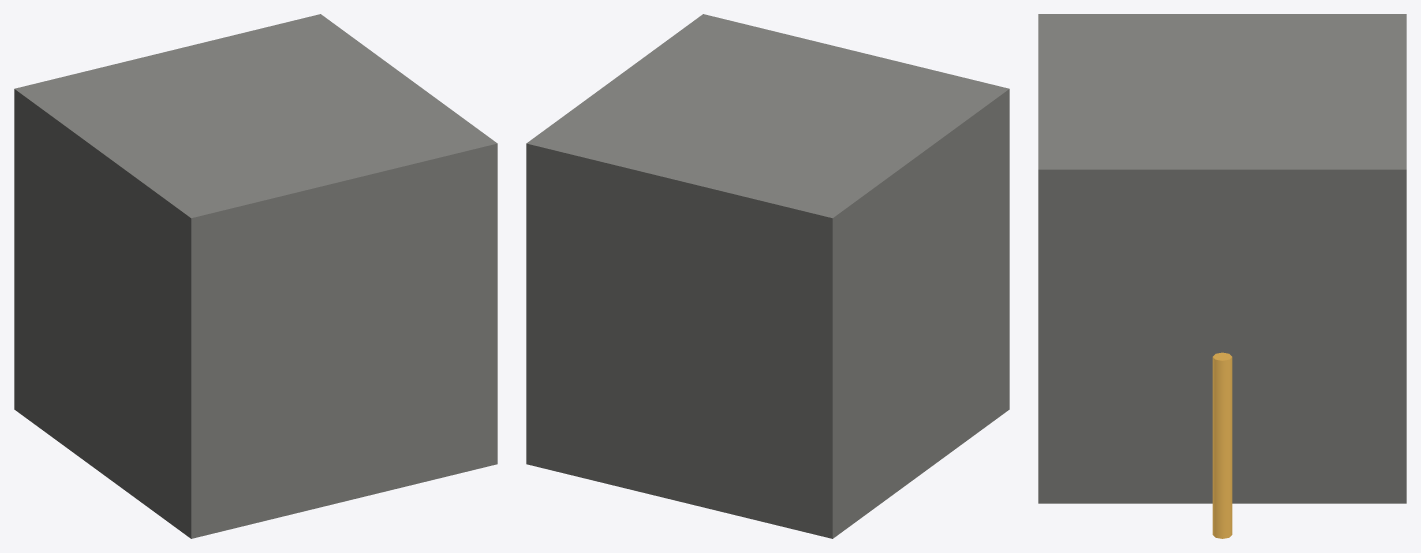
The model's file is column_reference_3m.glb.
3 views of the same model, side by side, from view 1: azimuth 30°, elevation 25°; view 2: azimuth 150°, elevation 25°; view 3: azimuth 270°, elevation 25° (orthographic). The views are drawn at different scales.
Parts seen in each view (by area): view 1: MESH_column_placeholder; view 2: MESH_column_placeholder; view 3: MESH_column_placeholder, REFERENCE_Player_1_6m.
Part boxes in pixels (bbox=[...]): MESH_column_placeholder: bbox=[14, 14, 497, 538]; MESH_column_placeholder: bbox=[526, 14, 1009, 538]; MESH_column_placeholder: bbox=[1038, 14, 1406, 503]; REFERENCE_Player_1_6m: bbox=[1212, 352, 1232, 538].
Size of the model in its own units: 3.68 by 3 by 3.
